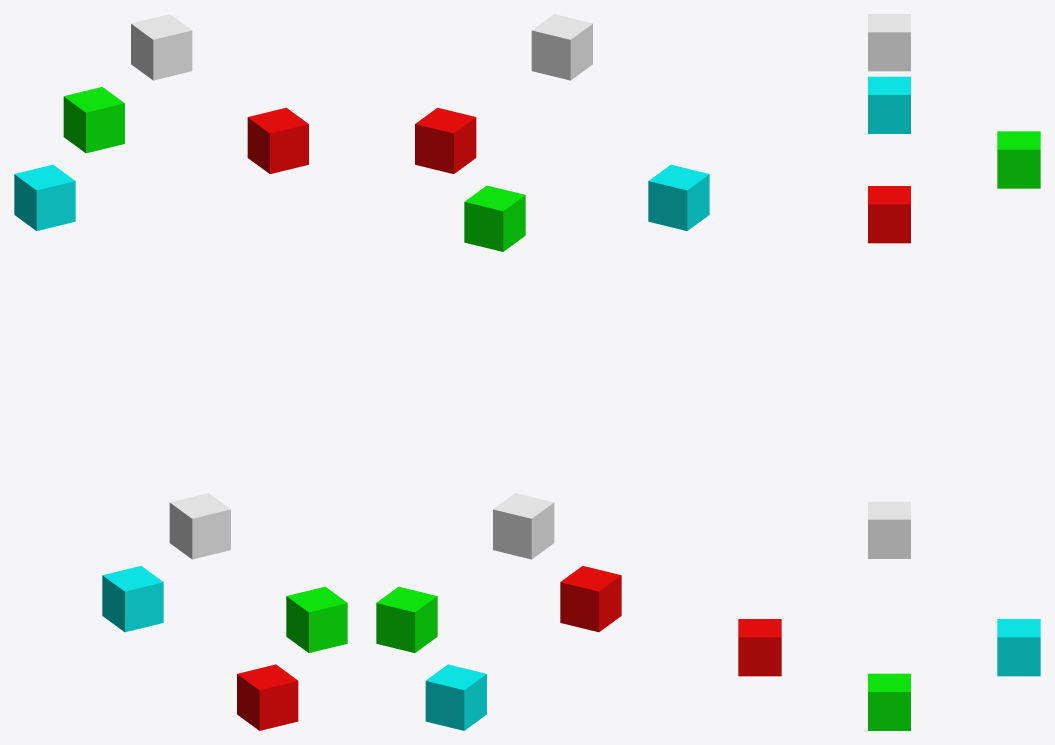
Rendered from iter_0.obj.
3 views of the same model, side by side, from view 1: azimuth 30°, elevation 25°; view 2: azimuth 150°, elevation 25°; view 3: azimuth 270°, elevation 25° (orthographic). The views are drawn at different scales.
Visible parts, largest first — view 1: iter_0; view 2: iter_0; view 3: iter_0.
Boxes of the visible parts, x1,y1,x2,y2 form: iter_0: [14, 14, 347, 730]; iter_0: [376, 14, 709, 730]; iter_0: [738, 14, 1040, 730].
Size of the model in its own units: 0.8 by 1.6 by 0.7.
